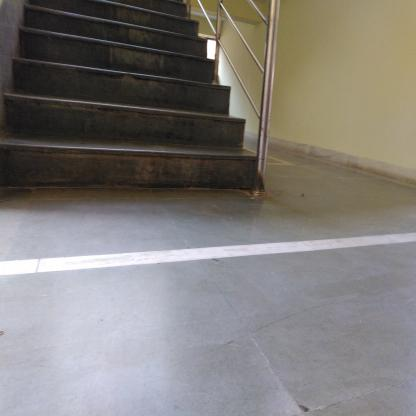stairs: (24, 3, 185, 198)
